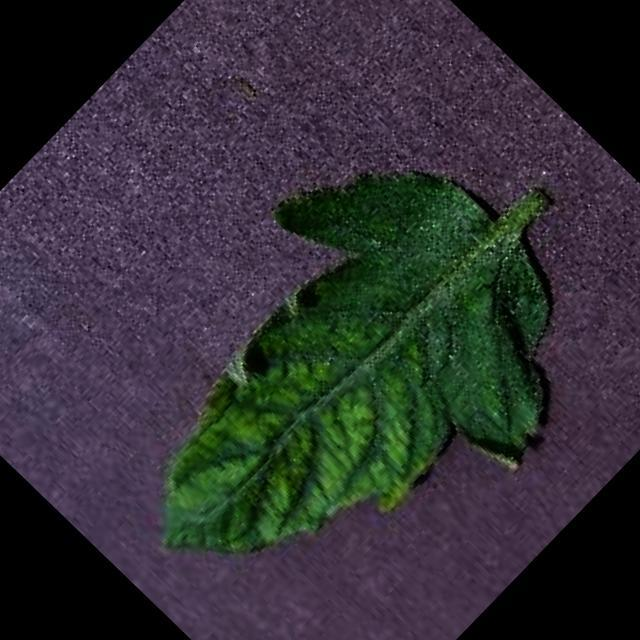Tomato mosaic virus leaf: (47, 101, 637, 640)
